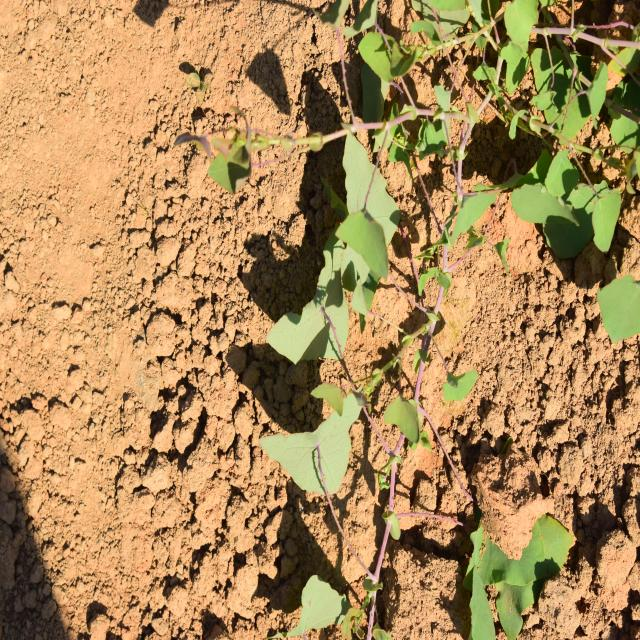Asiatic_Smartweed: (275, 140, 393, 568), (466, 1, 622, 252)
